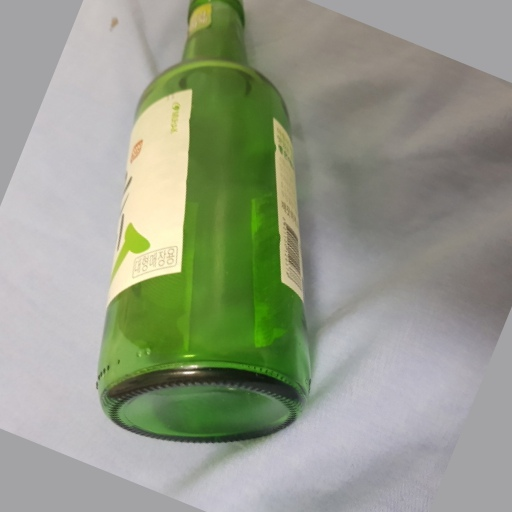Glass_0: (89, 3, 320, 446)
